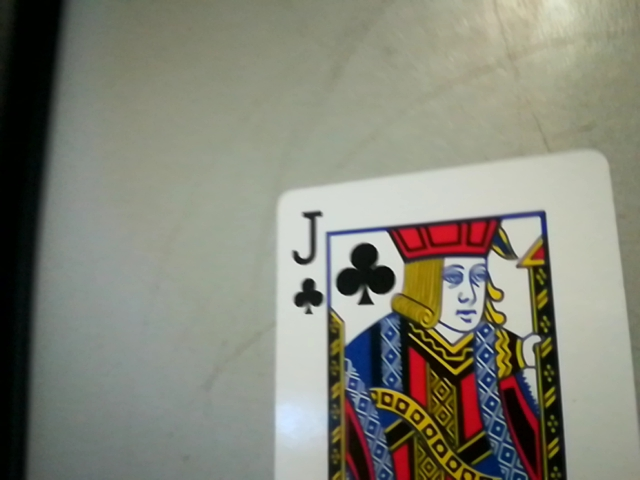mh j: (281, 202, 331, 320)
